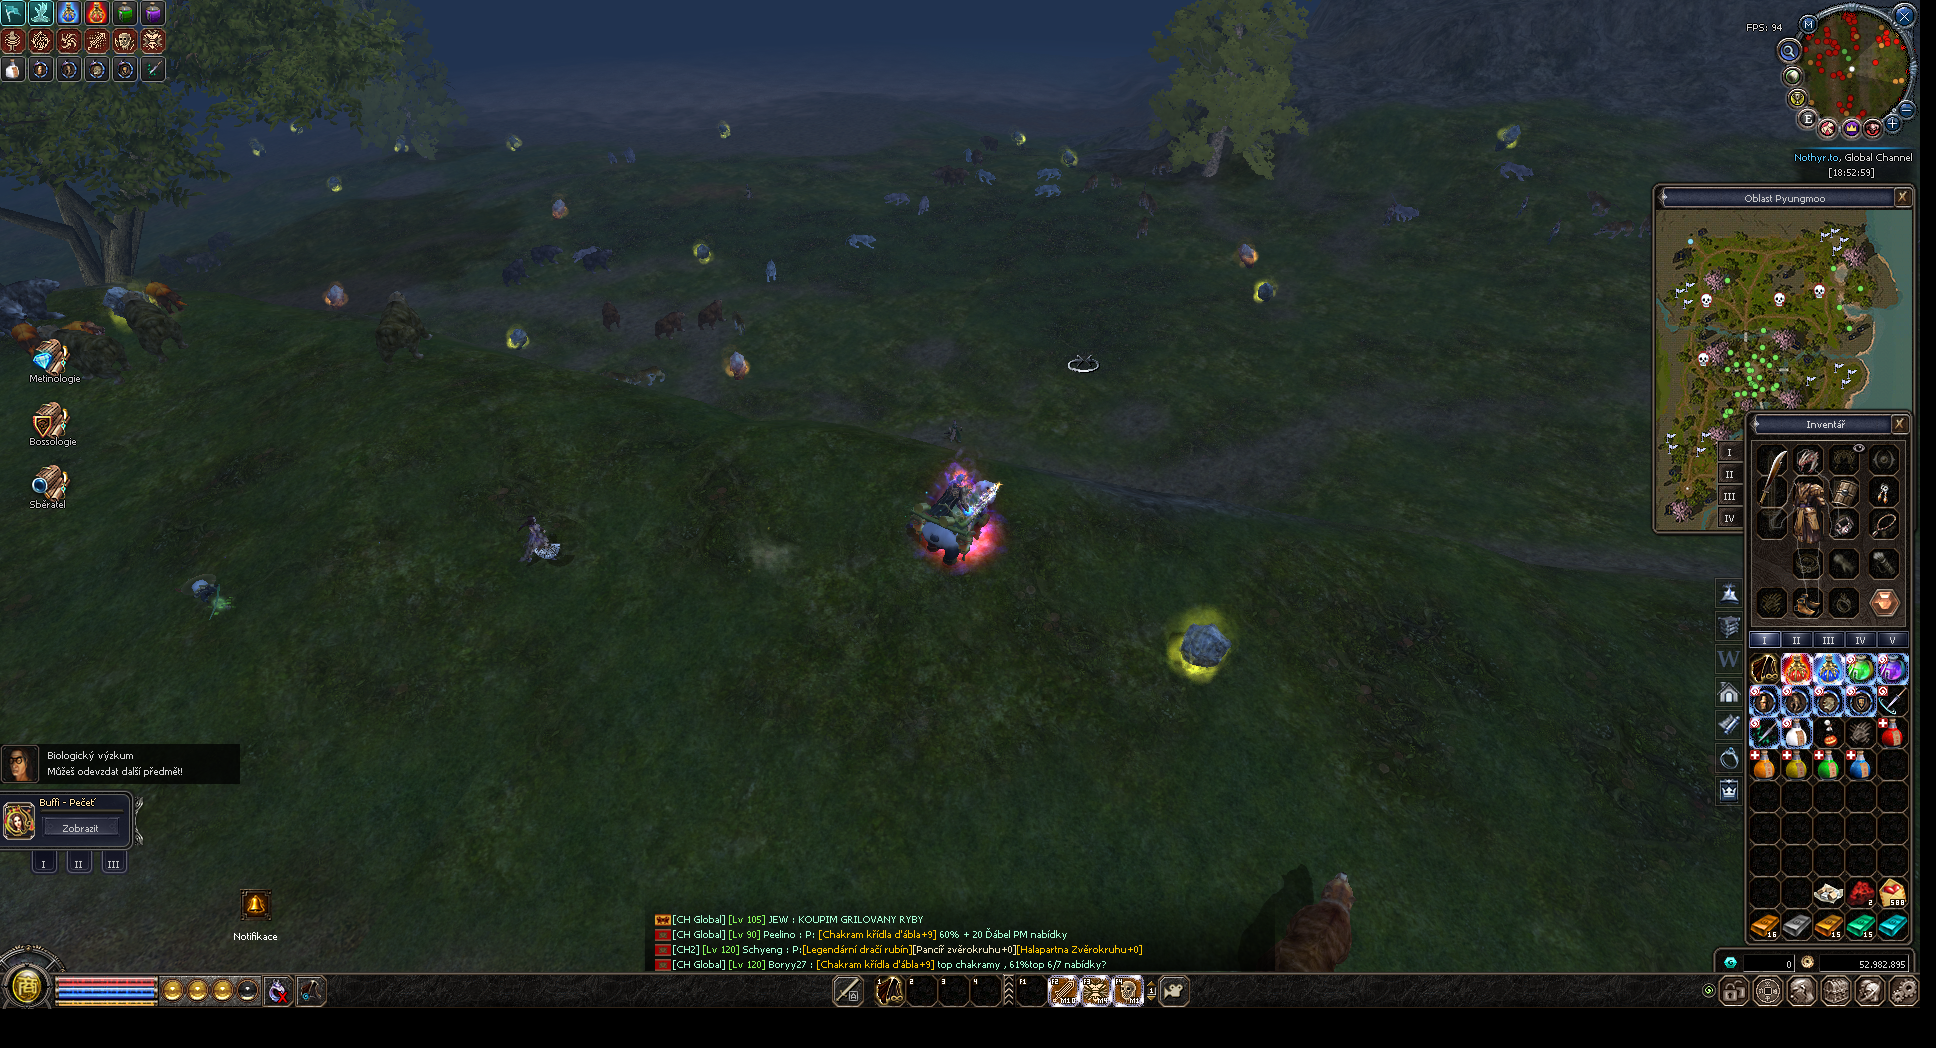Buff: (1173, 620, 1233, 676), (1495, 124, 1522, 151), (1236, 244, 1258, 268), (509, 327, 529, 351), (1255, 281, 1276, 303), (693, 243, 712, 265), (552, 197, 568, 218), (507, 136, 524, 152), (250, 139, 265, 156), (396, 137, 408, 155), (290, 121, 305, 136), (329, 176, 342, 190), (719, 123, 732, 137)
Enemy: (55, 307, 166, 385), (1273, 872, 1354, 972), (111, 292, 186, 363), (376, 290, 432, 363), (10, 321, 105, 354), (0, 277, 62, 321), (179, 576, 234, 618), (520, 516, 560, 563), (607, 367, 666, 388), (145, 281, 185, 314), (604, 367, 666, 387), (10, 321, 41, 352), (696, 299, 724, 330), (654, 311, 685, 339), (577, 249, 614, 272), (1382, 203, 1418, 226), (183, 252, 222, 272), (1593, 219, 1635, 237), (1586, 188, 1612, 217), (932, 165, 967, 186), (324, 281, 348, 310), (502, 258, 527, 287), (725, 351, 750, 379), (62, 320, 106, 336), (1498, 163, 1533, 182), (530, 245, 563, 265), (639, 367, 666, 388), (601, 301, 621, 330), (157, 254, 182, 277), (207, 231, 234, 252), (847, 234, 876, 250), (570, 247, 599, 263), (1138, 191, 1156, 216), (1008, 129, 1027, 151), (884, 192, 911, 207), (1060, 147, 1079, 166), (1514, 195, 1529, 218), (1082, 174, 1100, 194), (1034, 185, 1061, 197), (1546, 221, 1560, 245), (1151, 161, 1173, 177), (1036, 168, 1062, 181), (946, 419, 960, 443), (981, 136, 1000, 152), (965, 148, 983, 165), (731, 312, 745, 333), (1637, 217, 1651, 237), (978, 169, 996, 185), (916, 196, 931, 216), (765, 259, 777, 281), (1111, 174, 1124, 188), (623, 148, 636, 163), (964, 148, 976, 164), (743, 185, 752, 200), (607, 152, 618, 164)
Me: (910, 467, 1000, 567)
